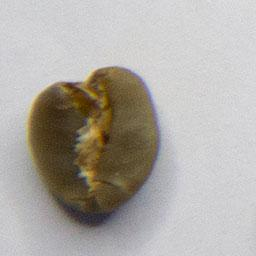premium: (26, 61, 166, 219)
